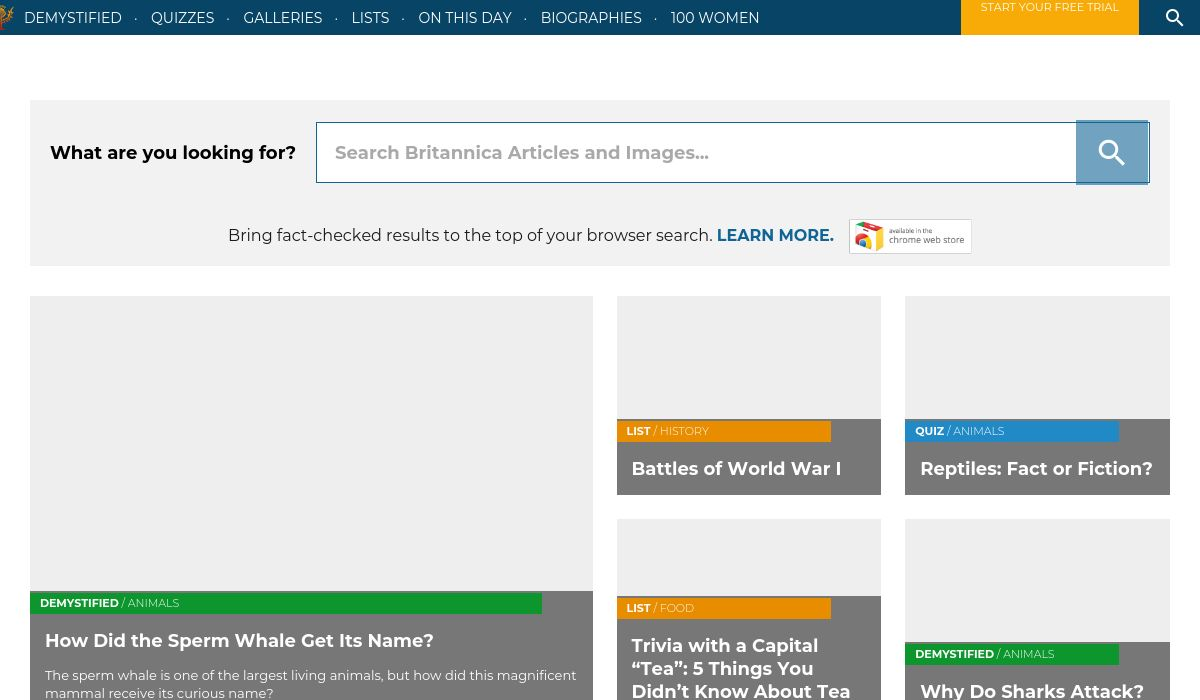menu: (1, 1, 1200, 36)
menu-button: (962, 1, 1139, 34), (538, 4, 644, 31), (415, 3, 517, 30), (20, 4, 125, 30), (669, 5, 761, 32), (241, 5, 323, 30), (147, 4, 218, 30), (348, 5, 396, 30), (1159, 5, 1189, 30)
